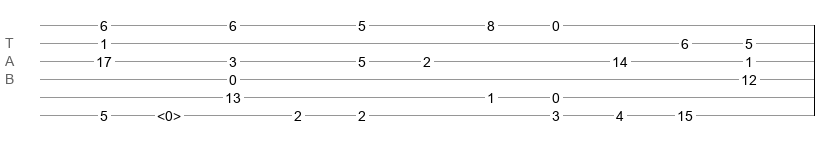0: (229, 72, 237, 82), (552, 18, 560, 28), (552, 90, 560, 100)
1: (100, 36, 108, 46), (487, 90, 495, 100), (745, 54, 753, 64)
12: (741, 72, 757, 82)
13: (225, 90, 241, 100)
14: (612, 54, 628, 64)
15: (677, 108, 693, 118)
17: (96, 54, 112, 64)
2: (294, 108, 302, 118), (358, 108, 366, 118), (423, 54, 431, 64)
3: (229, 54, 237, 64), (552, 108, 560, 118)
4: (616, 108, 624, 118)
5: (100, 108, 108, 118), (358, 18, 366, 28), (358, 54, 366, 64), (745, 36, 753, 46)
6: (100, 18, 108, 28), (229, 18, 237, 28), (681, 36, 689, 46)
8: (487, 18, 495, 28)
harmonic: (157, 108, 181, 118)
